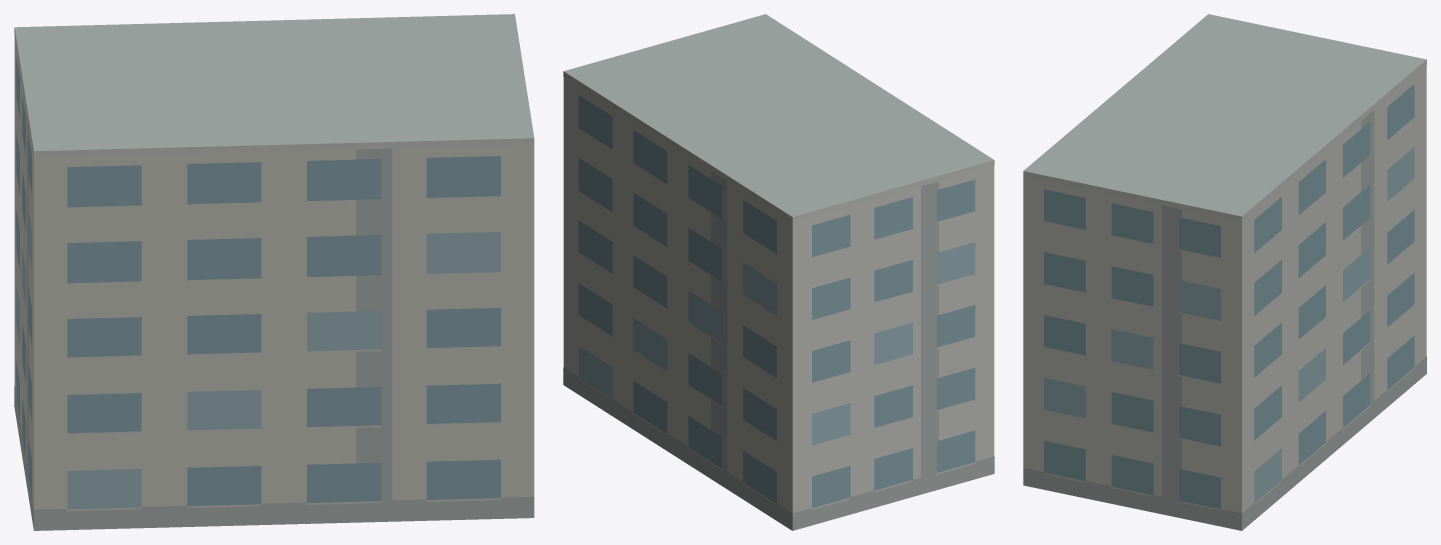
File: survey-upis-33030938.glb
3 renders of one model, left to right at view 1: azimuth 30°, elevation 25°; view 2: azimuth 150°, elevation 25°; view 3: azimuth 270°, elevation 25°, orthographic. The views are drawn at different scales.
Visible parts, largest first — view 1: survey-upis-33030938.tmp; view 2: survey-upis-33030938.tmp; view 3: survey-upis-33030938.tmp.
Part boxes in pixels (<box>): survey-upis-33030938.tmp: <box>14,14,534,530</box>; survey-upis-33030938.tmp: <box>563,14,994,530</box>; survey-upis-33030938.tmp: <box>1023,14,1426,530</box>.
Size of the model in its own units: 19.14 by 13.85 by 16.12.
